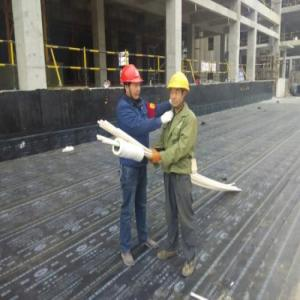red: (122, 65, 144, 102)
yellow: (168, 72, 190, 112)
